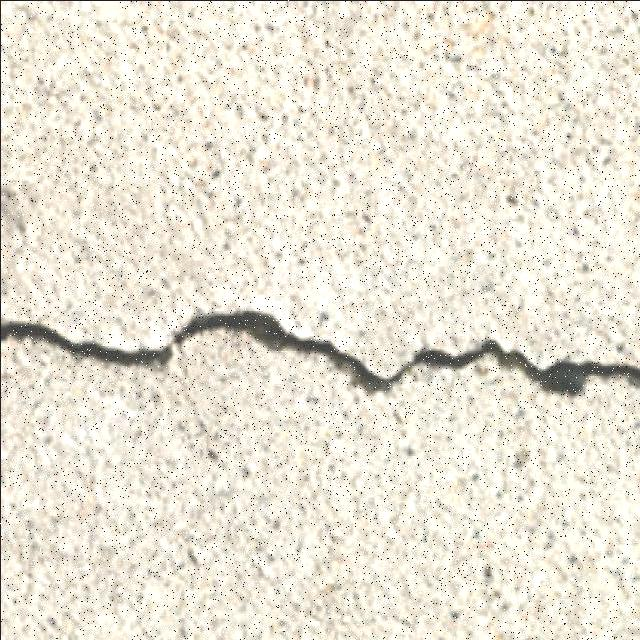crack: (1, 308, 638, 398), (5, 313, 196, 507), (142, 349, 324, 489), (342, 360, 505, 487), (556, 388, 640, 490), (4, 319, 176, 367), (172, 308, 299, 349), (7, 319, 78, 348), (2, 187, 32, 246), (7, 337, 44, 375), (2, 183, 19, 200)
